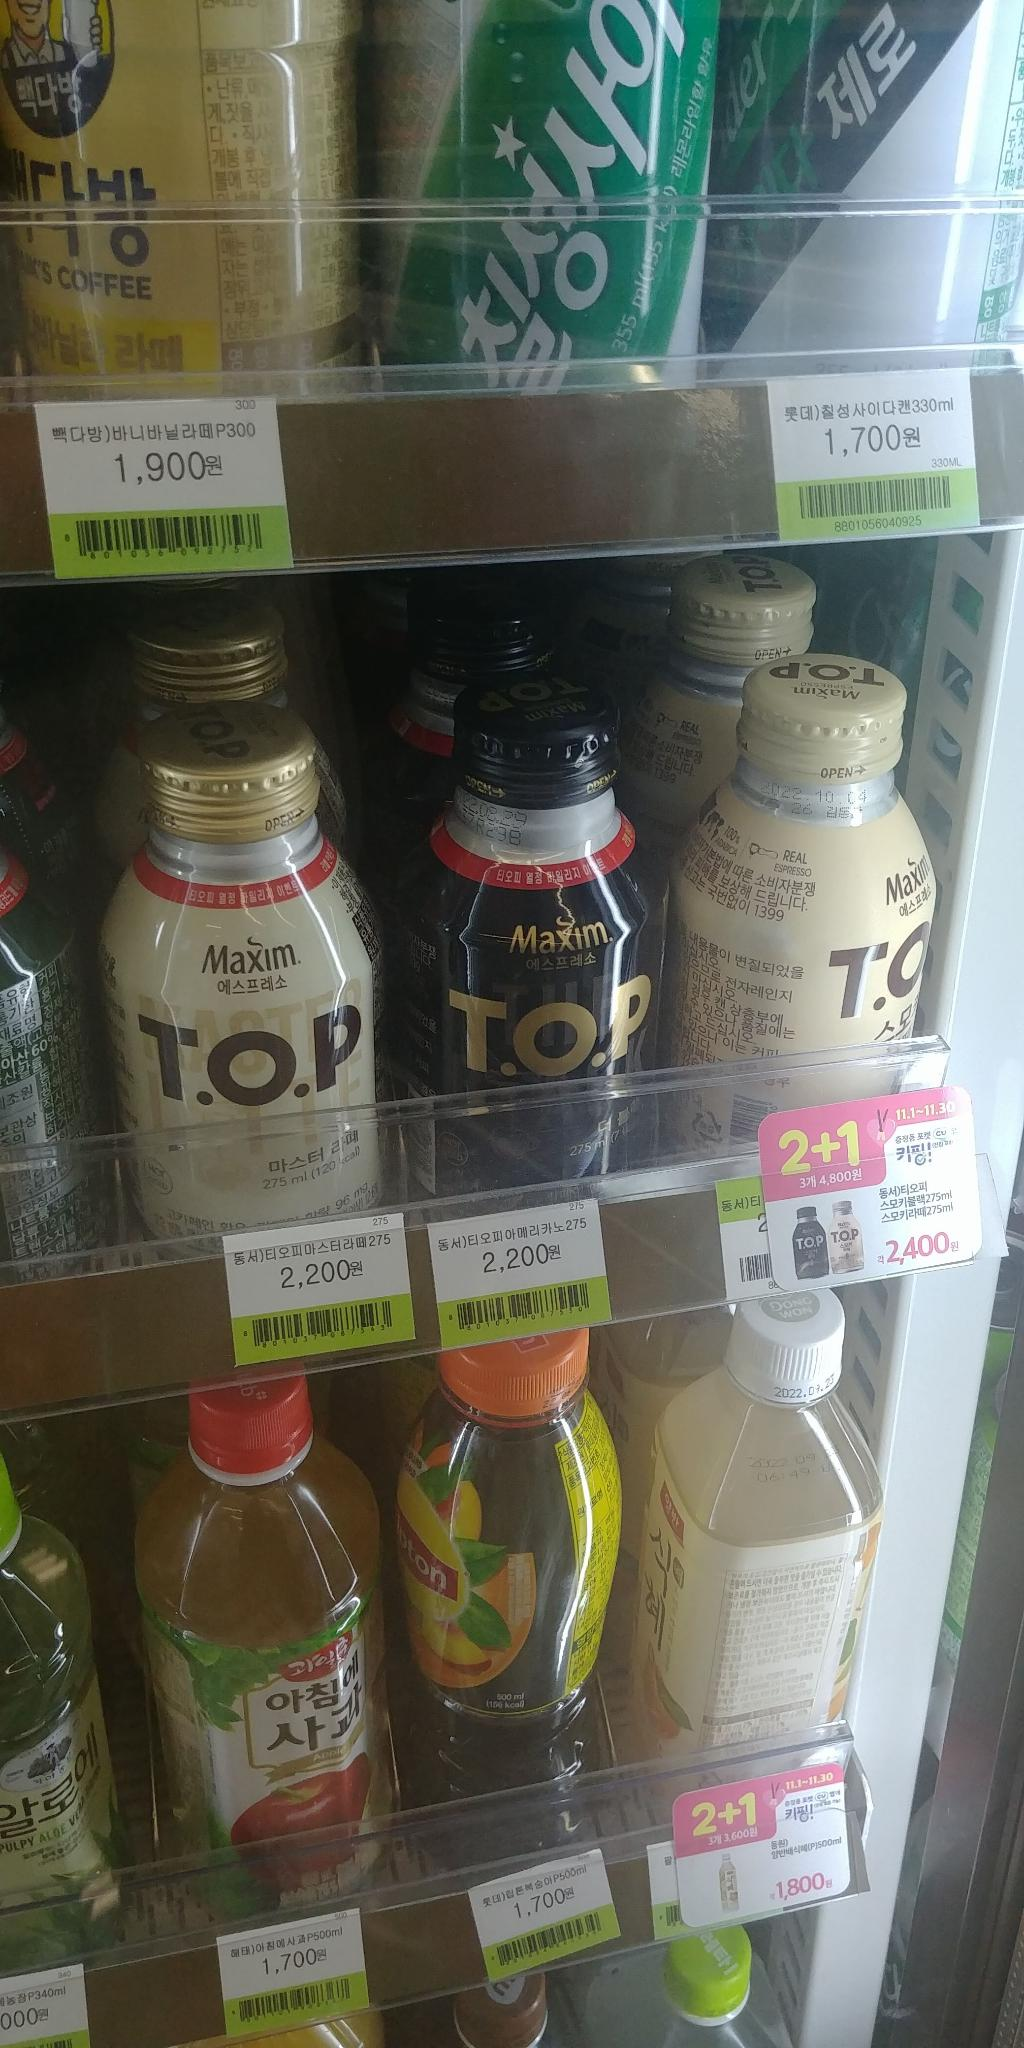TOP_black: (370, 661, 664, 1233)
